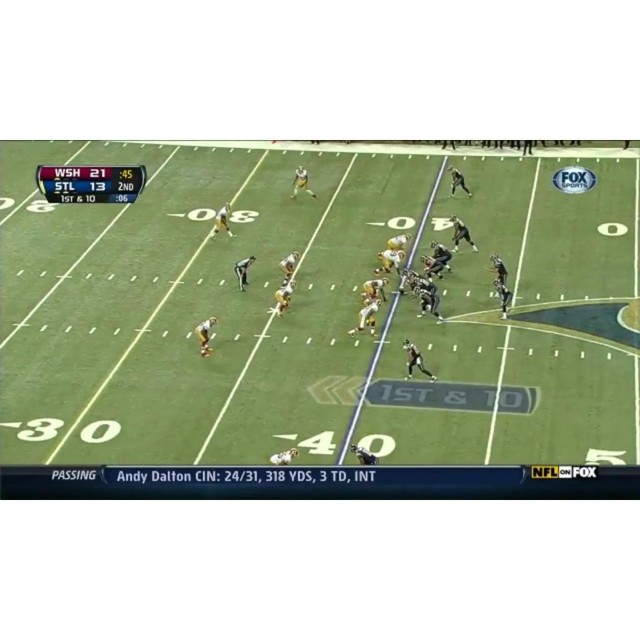american-football-player: (402, 337, 437, 381), (348, 298, 383, 338), (449, 213, 478, 253), (415, 286, 445, 324), (269, 280, 297, 319), (289, 165, 317, 201), (211, 202, 236, 240), (492, 278, 514, 320), (373, 249, 407, 276), (196, 316, 218, 356), (430, 239, 452, 274), (448, 166, 471, 199), (362, 277, 389, 304), (278, 251, 301, 282), (419, 254, 444, 282), (488, 253, 509, 286), (350, 443, 379, 466), (397, 269, 419, 298), (270, 448, 299, 465), (387, 233, 412, 251)
referee: (234, 255, 257, 292)
